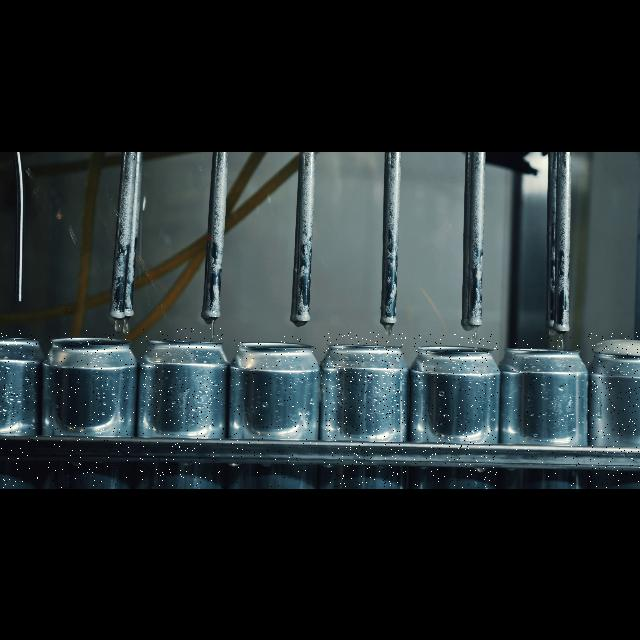empty: (229, 334, 319, 488), (48, 328, 134, 488), (140, 328, 224, 488), (412, 334, 498, 488), (324, 332, 406, 488), (506, 336, 582, 488), (1, 330, 39, 488)
full: (588, 332, 640, 488)
